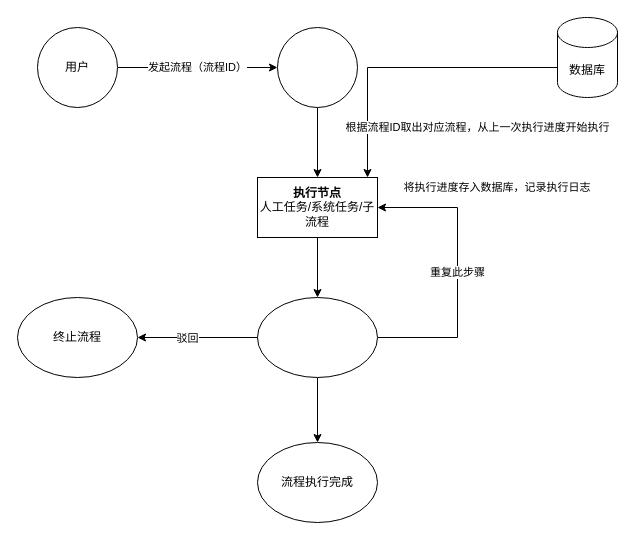
Image size: 635x540. Some labels were removed from this diagram. The box of each missing label's shape, as (x1, y1, x2, y2) in pixels:
BPMN执行引擎: (276, 26, 358, 108)
处理人进行处理 处理（委托、抄送、加签等）: (256, 296, 378, 378)
